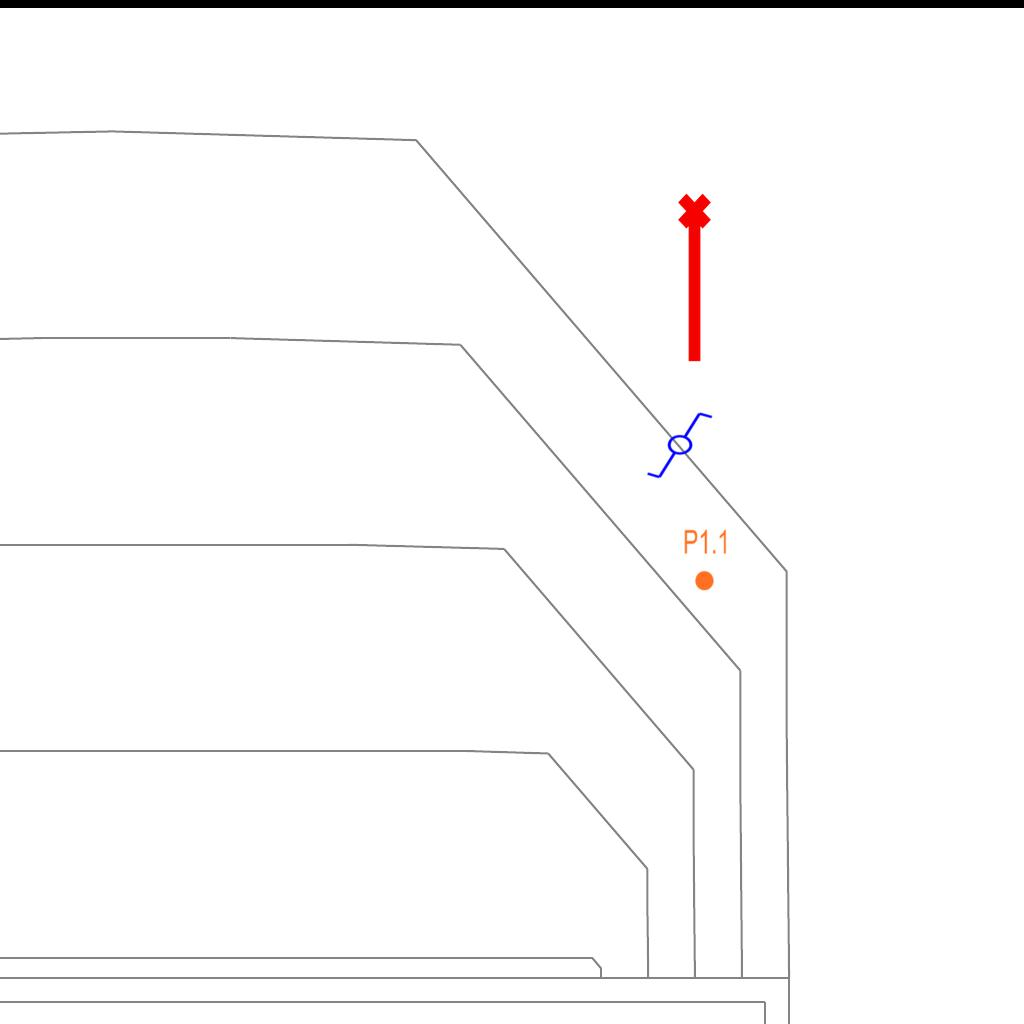ASR_Ansaugoeffnung: (674, 191, 720, 367)
Downlight_LED_Einbauleuchten_Flur: (683, 528, 729, 592)
Wechselschalter: (645, 410, 723, 482)
